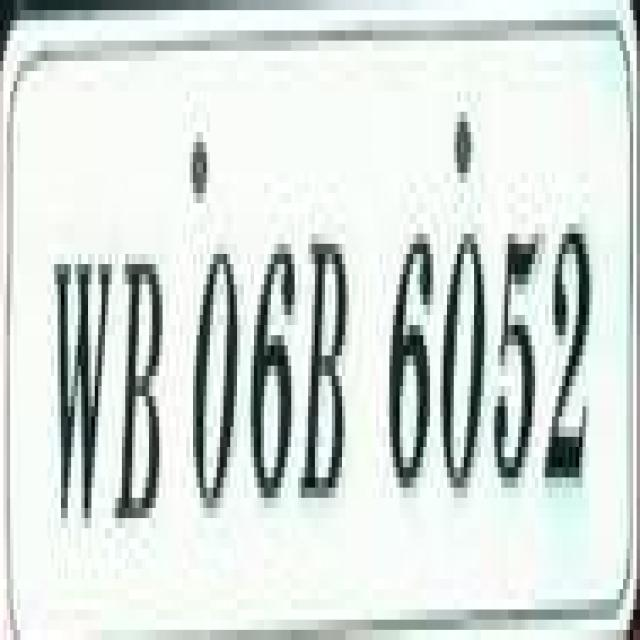license_plate: (23, 40, 640, 619)
